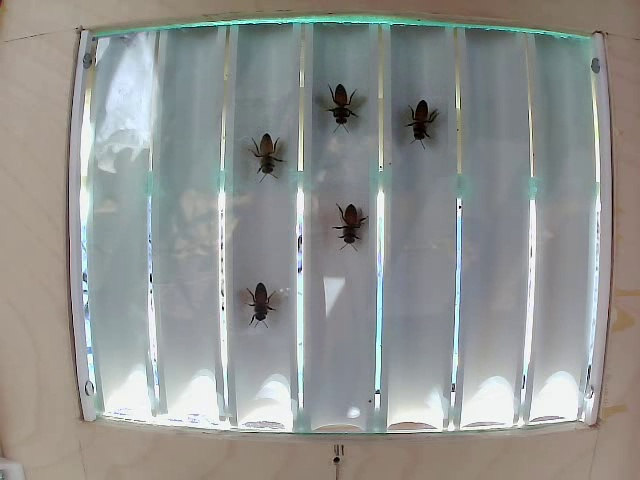bee: (333, 201, 380, 255), (252, 114, 289, 174), (241, 271, 276, 331), (402, 89, 434, 148), (331, 71, 354, 120)
